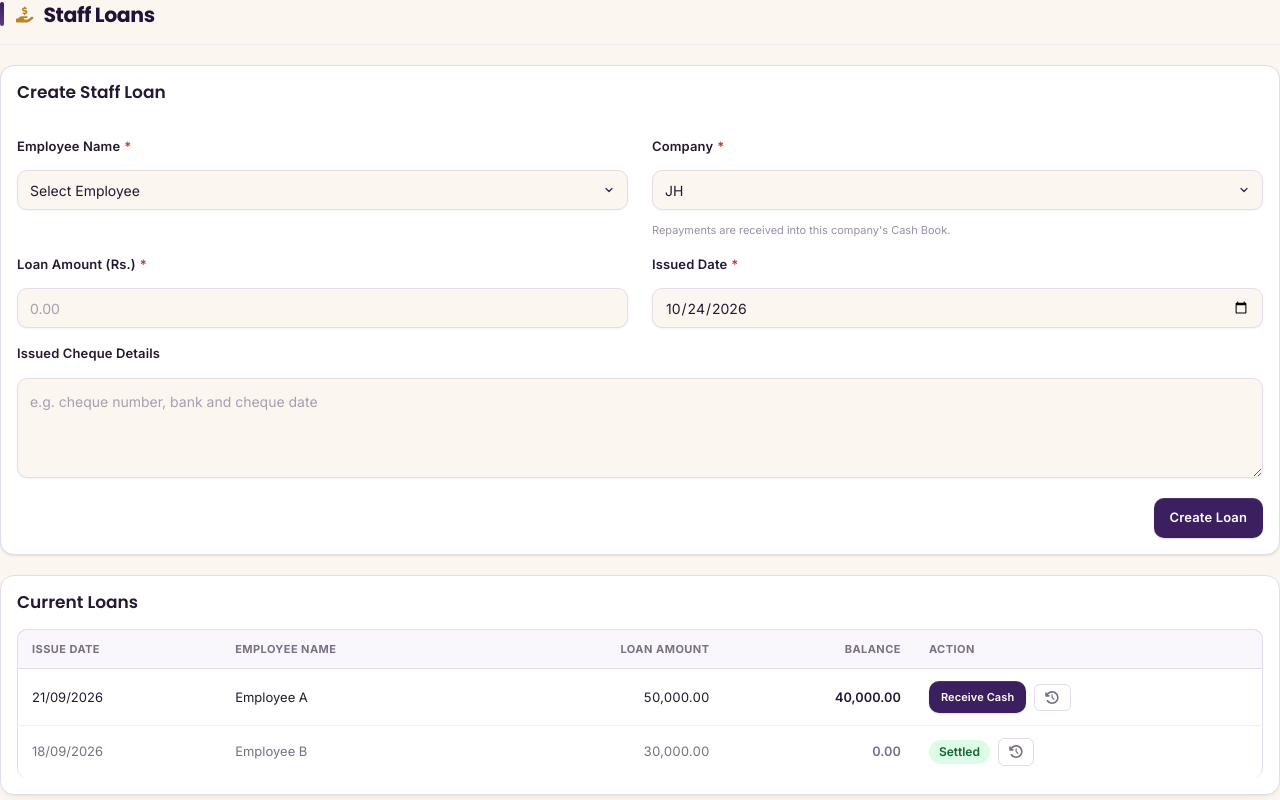
Test: StaffLoans page › history modal lists repayments from the API
This screenshot has width=1280, height=800.
Click the button named "repayment history".
click(1052, 697)  # box [1034, 684, 1071, 711]
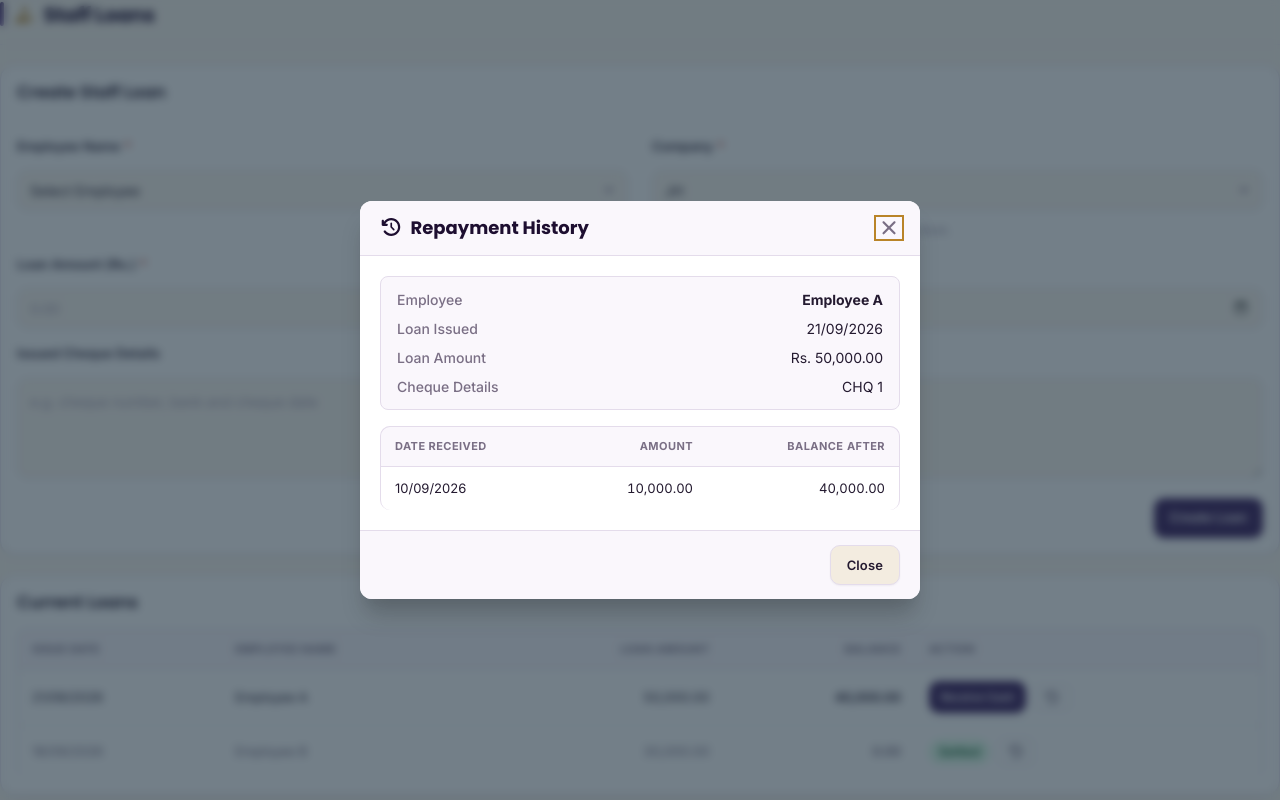
Expected: the text "10/09/2026" is shown, [380, 467, 564, 510]
Expected: the text "10,000.00" is shown, [564, 467, 707, 510]
